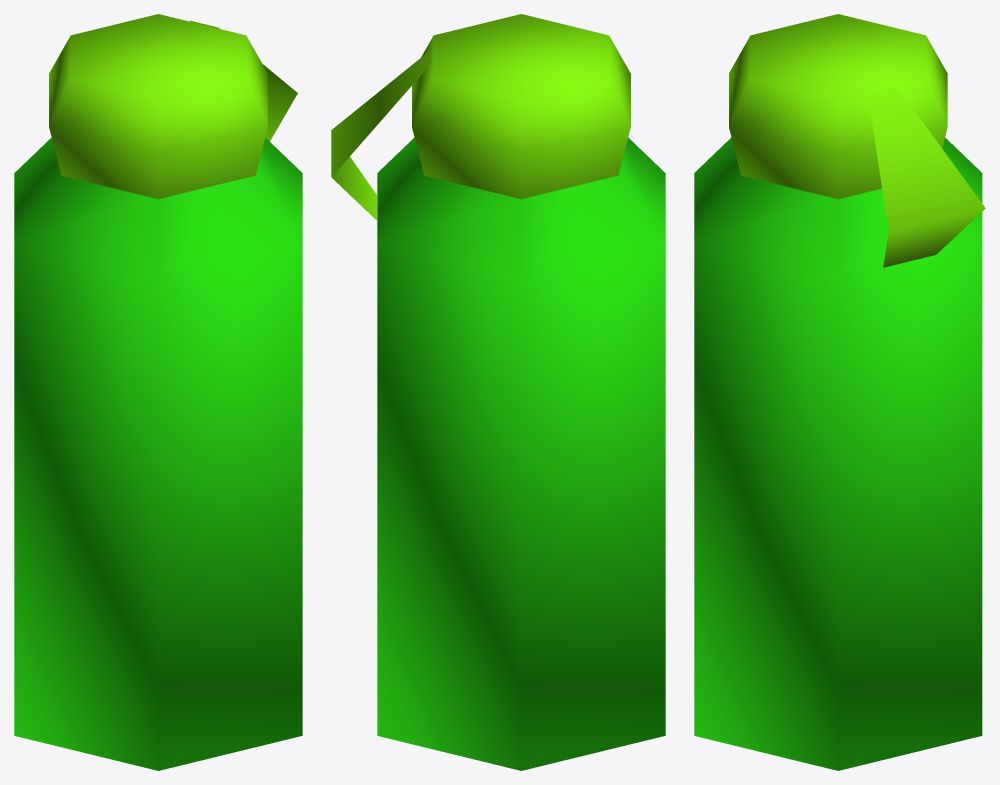
The model's file is Bottle_A.FBX.
3 renders of one model, left to right at view 1: azimuth 30°, elevation 25°; view 2: azimuth 150°, elevation 25°; view 3: azimuth 270°, elevation 25°, orthographic.
Parts seen in each view (by area): view 1: Bottle; view 2: Bottle; view 3: Bottle.
Boxes of the visible parts, x1,y1,x2,y2 form: Bottle: (14,14,302,770); Bottle: (331,14,665,770); Bottle: (694,14,985,770).
Size of the model in its own units: 38.23 by 76.16 by 31.27.
